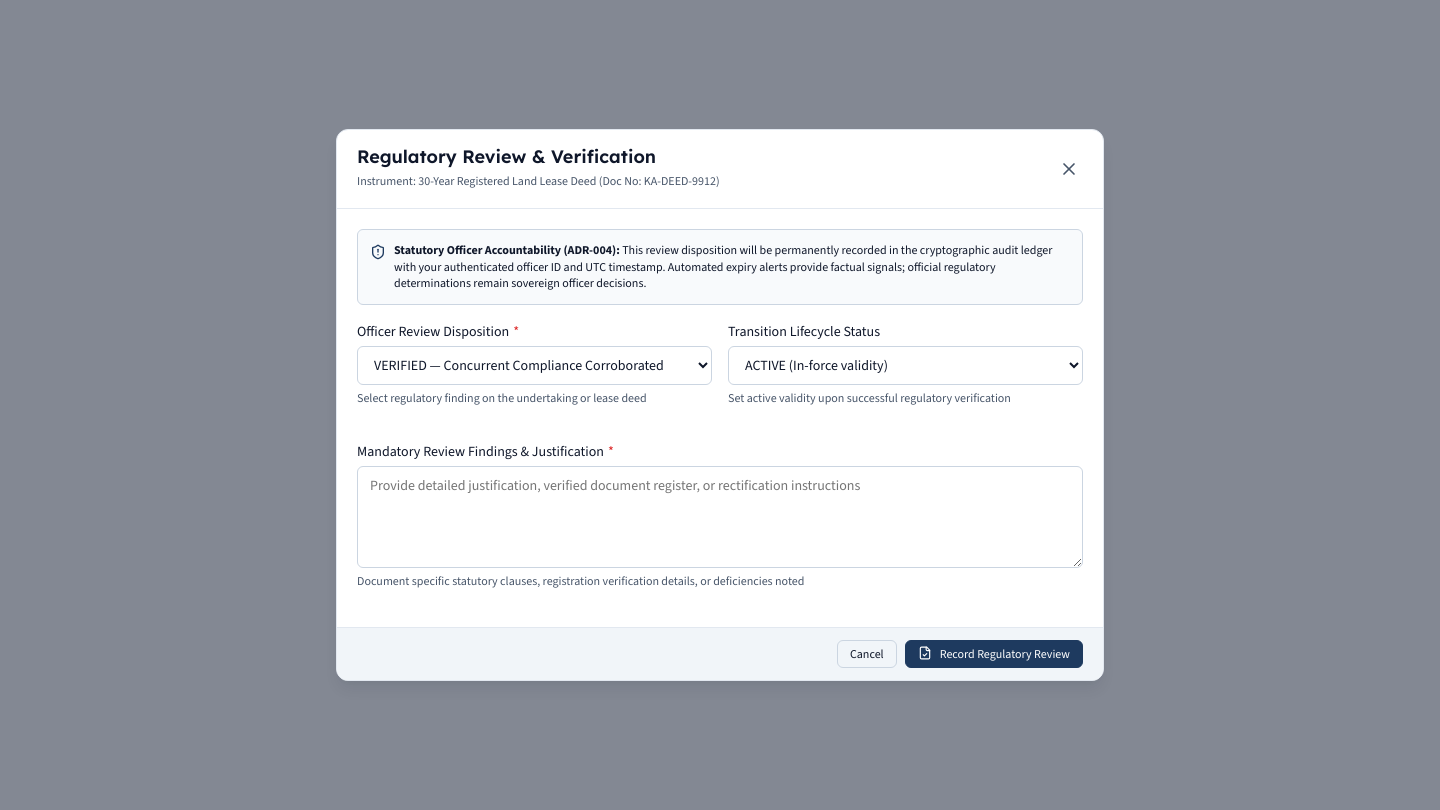
it: Undertakings Components (FE-07) › ReviewUndertakingModal › rejects notes shorter than 5 characters with validation error
Step 1. Replace the text in the text box with placeholder "Provide detailed justification, verified document register" with "Bad" → (720, 517), box [357,466,1083,568]
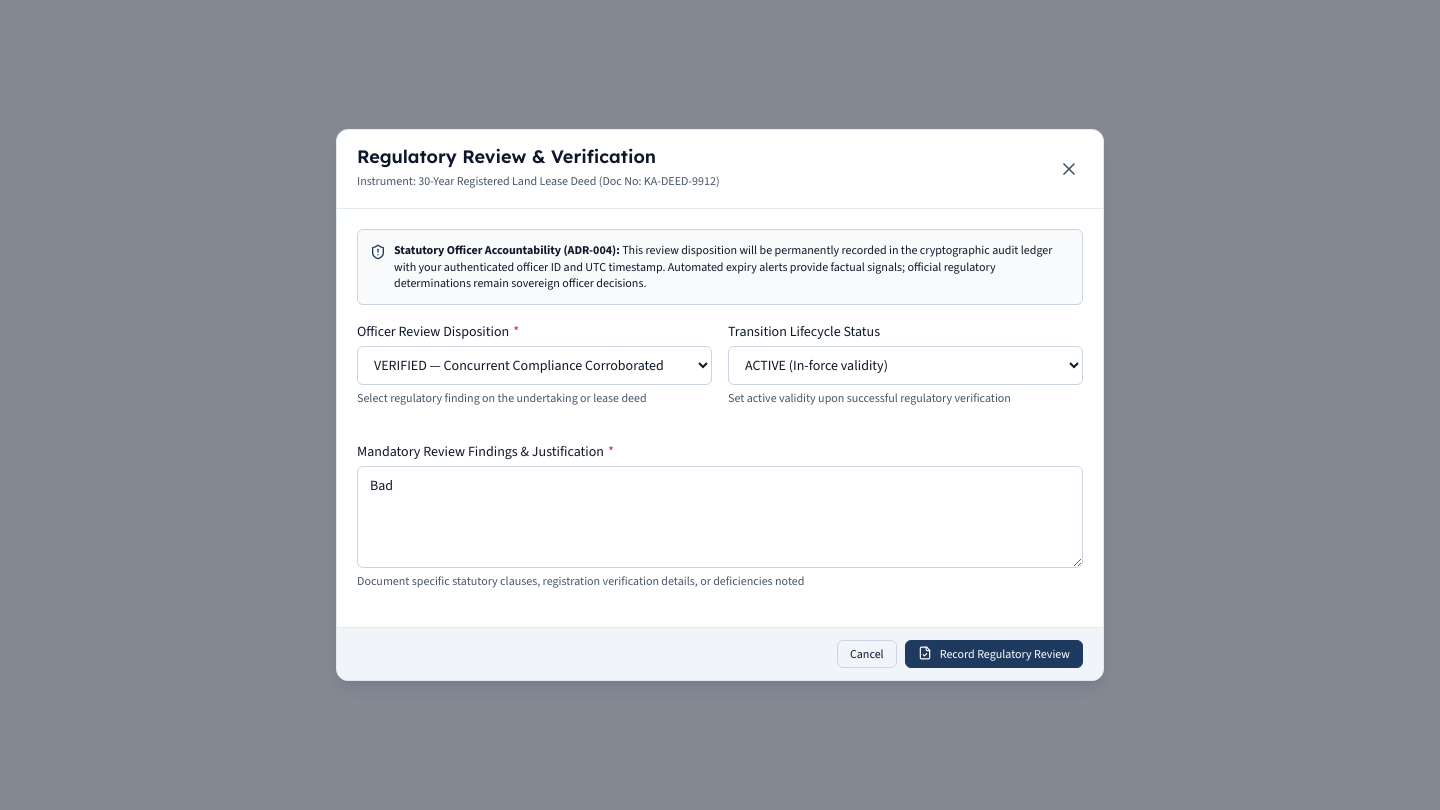
Step 2. Click the button "Record Regulatory Review" → (994, 654), box [905,640,1083,668]
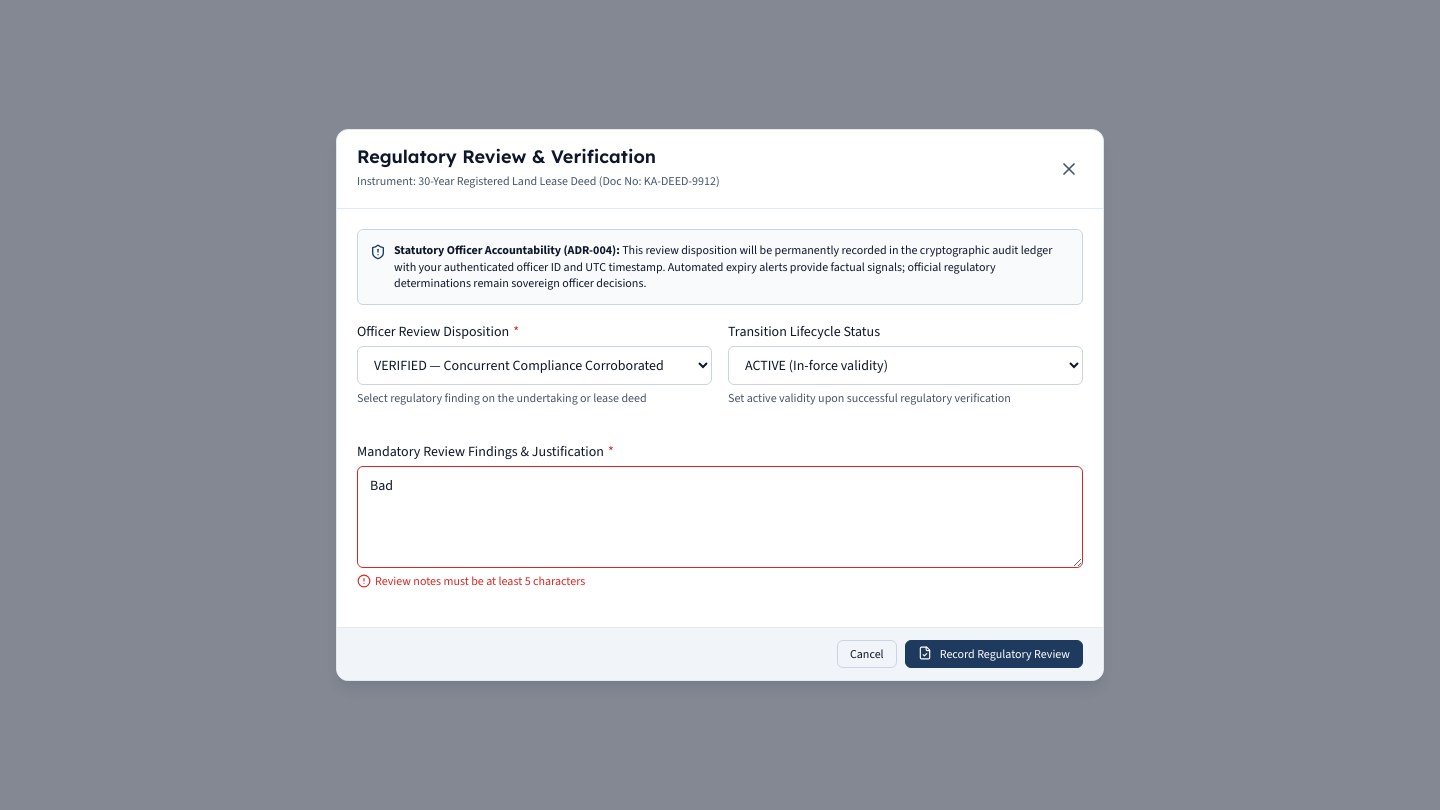
Check: the text "Review notes must be at least 5 characters" is shown, box [375,572,585,591]
